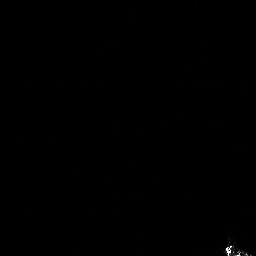ship: (223, 242, 256, 256)
